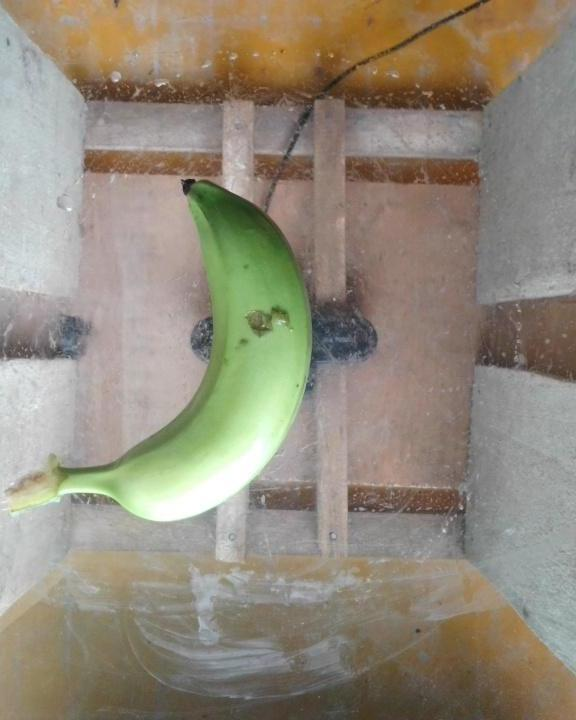CLASS B: (5, 165, 336, 541)
Class A: (231, 299, 308, 366)
